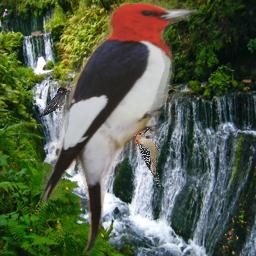Swallow: (36, 87, 70, 117)
Woodpecker: (40, 0, 197, 255), (135, 126, 161, 187)
